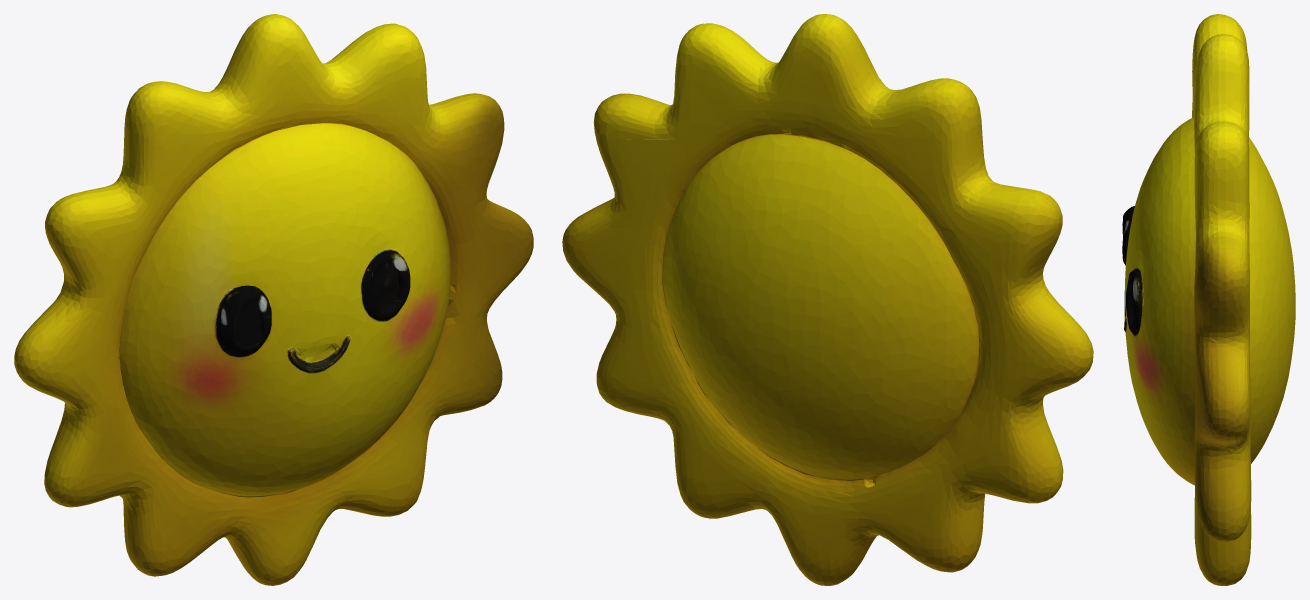
The model's file is sun.glb.
3 views of the same model, side by side, from view 1: azimuth 30°, elevation 25°; view 2: azimuth 150°, elevation 25°; view 3: azimuth 270°, elevation 25° (orthographic). The views are drawn at different scales.
Visible parts, largest first — view 1: geometry_0; view 2: geometry_0; view 3: geometry_0.
Boxes of the visible parts, x1=… form: geometry_0: x1=14, y1=14, x2=533, y2=585; geometry_0: x1=562, y1=14, x2=1093, y2=585; geometry_0: x1=1122, y1=14, x2=1295, y2=585.
Bounding box in the file's own units: 0.9588 × 0.9991 × 0.296.
Materials: 1 (1 with a texture image).
